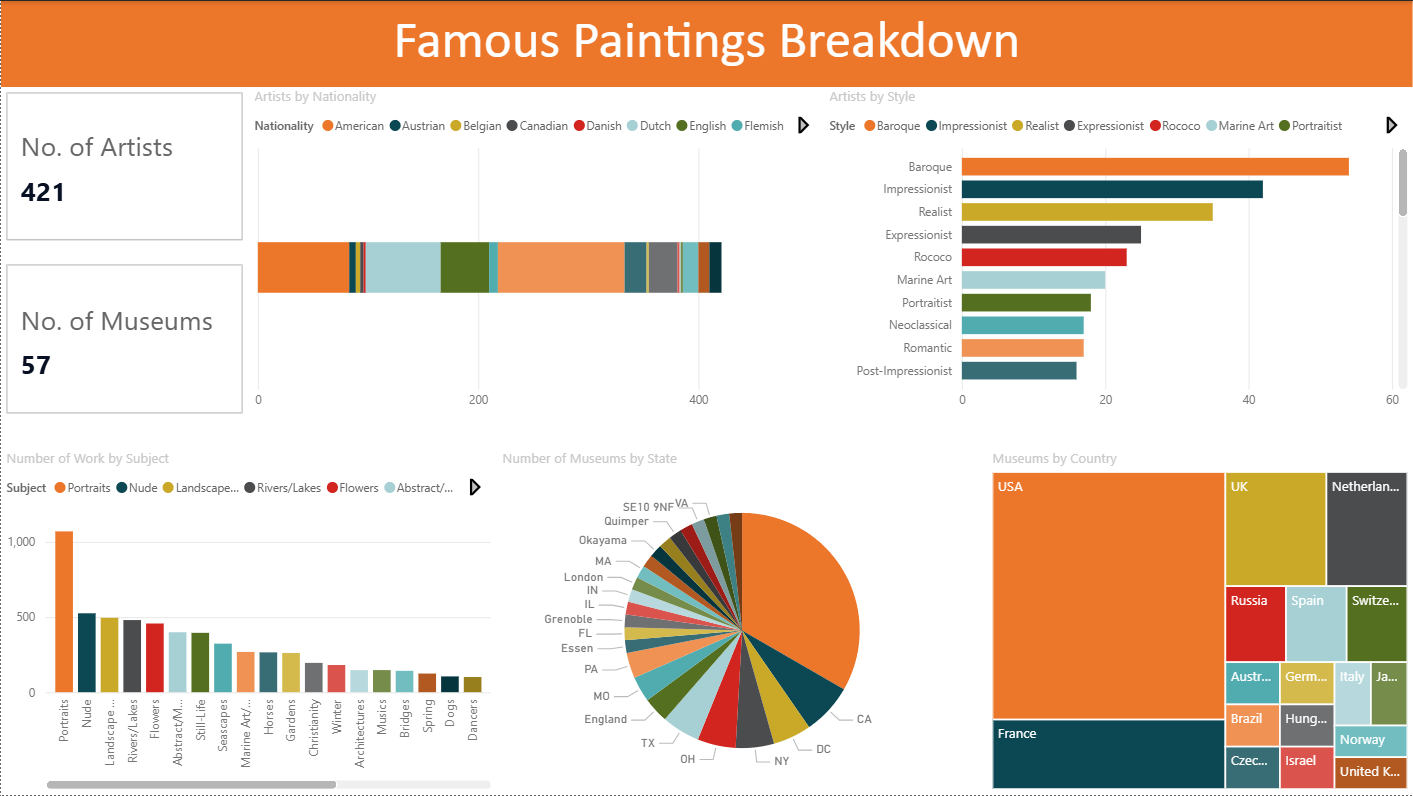

Layout of this report page (visuals, bound fields, positions):
{"tool":"powerbi","page":{"name":"Page 1","canvas":[1280,720],"ordinal":0},"visuals":[{"type":"textbox","box":[0,0,1280,77.8],"z":0},{"type":"cardVisual","fields":{"Data":["CountNonNull(artist.artist_id)"]},"box":[0,77.8,224.7,144.9],"z":1000},{"type":"barChart","title":"Artists by Nationality","fields":{"Y":["Count(artist.artist_id)"],"Series":["artist.nationality"]},"box":[224.7,77.8,521.3,301.5],"z":2000},{"type":"barChart","title":"Artists by Style","fields":{"Y":["Count(artist.artist_id)"],"Category":["artist.style"],"Series":["artist.style"]},"box":[746,77.8,534,301.5],"z":3000},{"type":"treemap","title":"Museums by Country","fields":{"Group":["museum.country"],"Values":["Count(museum.museum_id)"]},"box":[893.9,406.6,386.1,313.2],"z":4000},{"type":"columnChart","title":"Number of Work by Subject","fields":{"Category":["subject.subject"],"Y":["Count(subject.work_id)"],"Series":["subject.subject"]},"box":[0,406.6,449.4,313.2],"z":5000},{"type":"cardVisual","fields":{"Data":["Count(museum.museum_id)"]},"box":[0,234,224.9,145.1],"z":6000},{"type":"pieChart","fields":{"Category":["museum.state"],"Y":["Count(museum.museum_id)"]},"box":[449.4,406.6,444.5,313.2],"z":7000}]}

Visuals, with their boxes in screenshot pixels (x1, y1, x2, y2), scaled from the page's 1280x720 canvas onto the 1413x796 screenshot:
textbox: locate(0, 0, 1412, 86)
cardVisual - CountNonNull(artist.artist_id): locate(0, 86, 248, 246)
"Artists by Nationality" barChart: locate(248, 86, 824, 419)
"Artists by Style" barChart: locate(824, 86, 1412, 419)
"Museums by Country" treemap: locate(987, 450, 1412, 795)
"Number of Work by Subject" columnChart: locate(0, 450, 496, 795)
cardVisual - Count(museum.museum_id): locate(0, 259, 248, 419)
pieChart - museum.state x Count(museum.museum_id): locate(496, 450, 987, 795)
